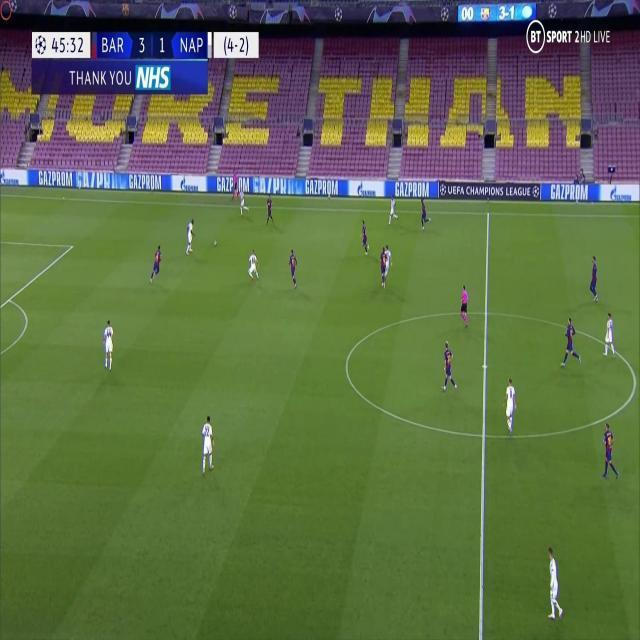ball: (213, 237, 218, 246)
player: (545, 543, 565, 621), (600, 422, 618, 482), (560, 315, 580, 368), (503, 374, 519, 436), (441, 338, 458, 394), (200, 412, 215, 474), (102, 316, 115, 372), (588, 254, 601, 304), (604, 310, 617, 359), (149, 243, 164, 284), (287, 247, 299, 290), (247, 247, 261, 282), (381, 244, 392, 288), (185, 217, 197, 256), (237, 185, 251, 218), (419, 197, 432, 229), (360, 217, 370, 256), (379, 244, 387, 288), (388, 192, 399, 223), (265, 192, 275, 225)
referee: (459, 282, 470, 328), (230, 166, 240, 201)
